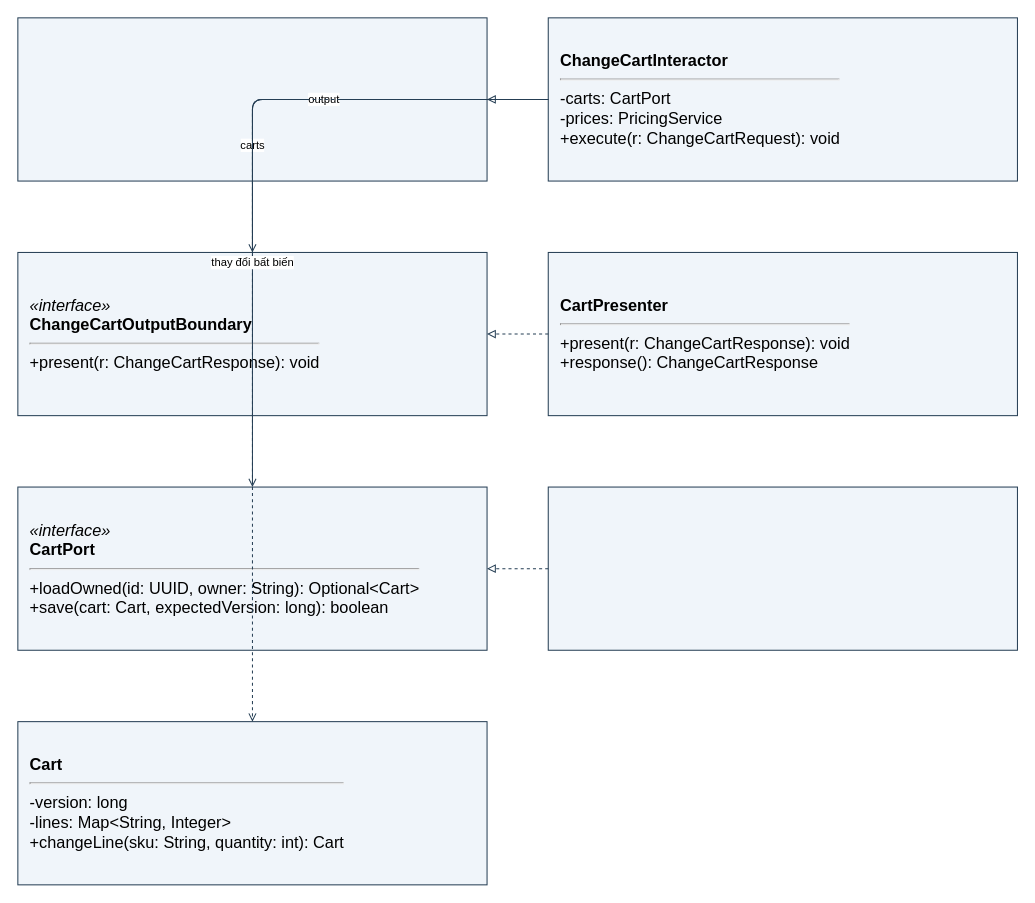
This 1035x903 diagram has some shape labels left out. The centre of each missing label's shape, as x and y in pixels:
"PostgresCartAdapter" belongs at (782,568).
"«interface» ChangeCartInputBoundary +execute(r: ChangeCartRequest): void" belongs at (252,99).
